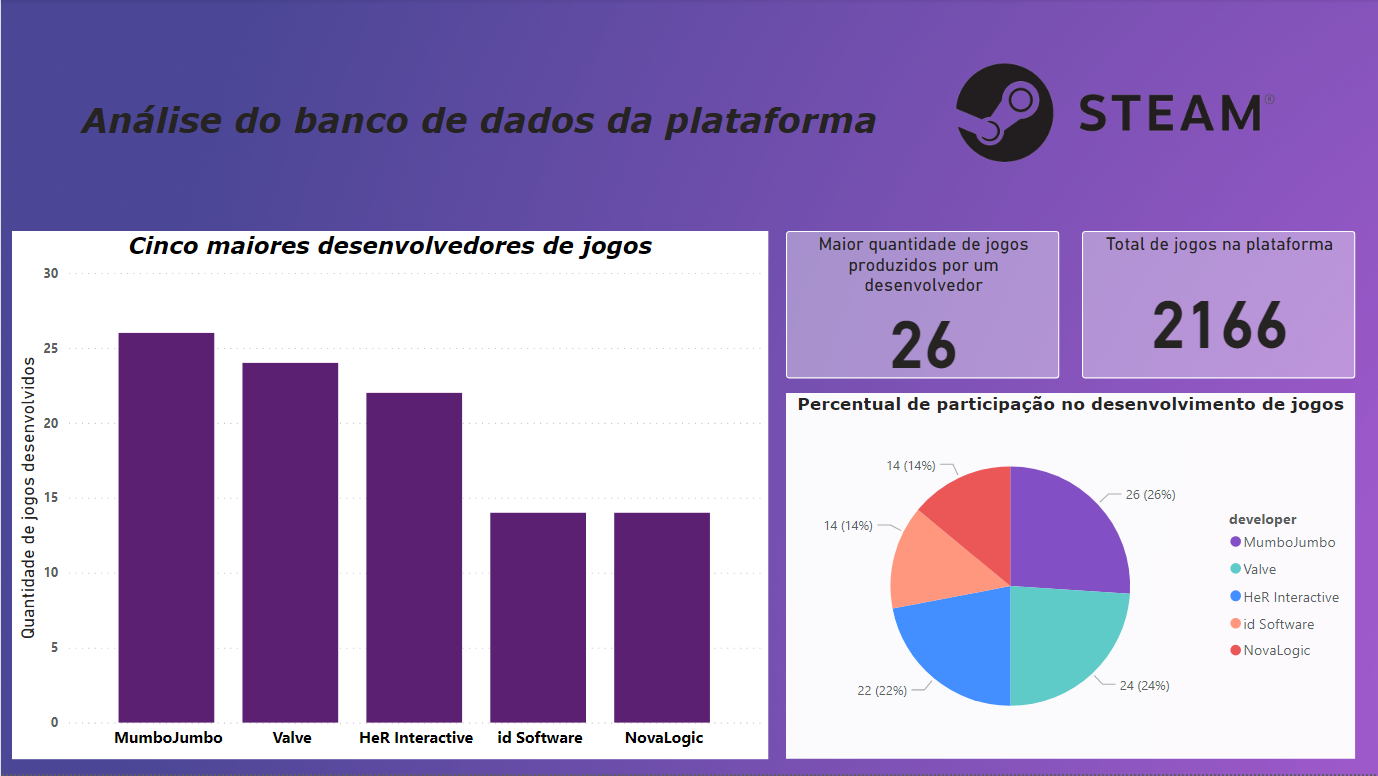

The page's visual inventory and layout, read from the dashboard file:
{"tool":"powerbi","page":{"name":"Maiores desenvolvedores","canvas":[1280,720],"ordinal":0},"visuals":[{"type":"clusteredColumnChart","title":"Cinco maiores desenvolvedores de jogos","fields":{"Category":["steam steam.developer"],"Y":["Sum(steam steam.Contagem)"]},"box":[10.6,216.1,703.2,490.6],"z":0},{"type":"pieChart","title":"Percentual de participação dos 10 maiores desenvolvedores de jogos","fields":{"Category":["steam steam.developer"],"Y":["Sum(steam steam.Contagem)"]},"box":[729.7,366.2,528.9,340.2],"z":1000},{"type":"image","box":[856.4,39.9,357.8,121.3],"z":2000},{"type":"textbox","box":[41.6,87.7,805.9,52.3],"z":3000},{"type":"card","title":"Maior quantidade de jogos produzidos por um desenvolvedor","fields":{"Values":["Max(steam steam.Contagem)"]},"box":[729.7,215.7,253.8,136.6],"z":4000},{"type":"card","title":"Total de jogos na plataforma","fields":{"Values":["Sum(steam steam.Contagem)"]},"box":[1004.9,215.7,253.8,136.6],"z":6000}]}

Visuals, with their boxes in screenshot pixels (x1, y1, x2, y2), scaled from the page's 1280x720 canvas onto the 1378x776 screenshot:
"Cinco maiores desenvolvedores de jogos" clusteredColumnChart: x1=11 y1=233 x2=768 y2=762
"Percentual de participação dos 10 maiores desenvolvedores de jogos" pieChart: x1=786 y1=395 x2=1355 y2=761
image: x1=922 y1=43 x2=1307 y2=174
textbox: x1=45 y1=95 x2=912 y2=151
"Maior quantidade de jogos produzidos por um desenvolvedor" card: x1=786 y1=232 x2=1059 y2=380
"Total de jogos na plataforma" card: x1=1082 y1=232 x2=1355 y2=380
